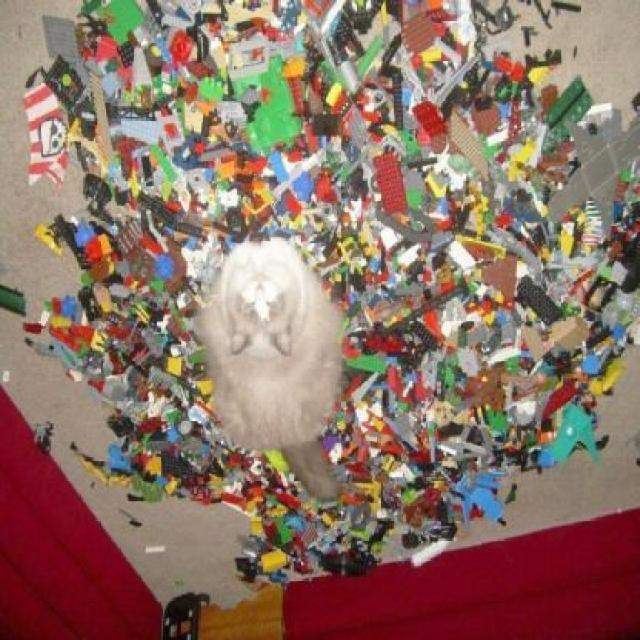cat: (192, 233, 366, 512)
